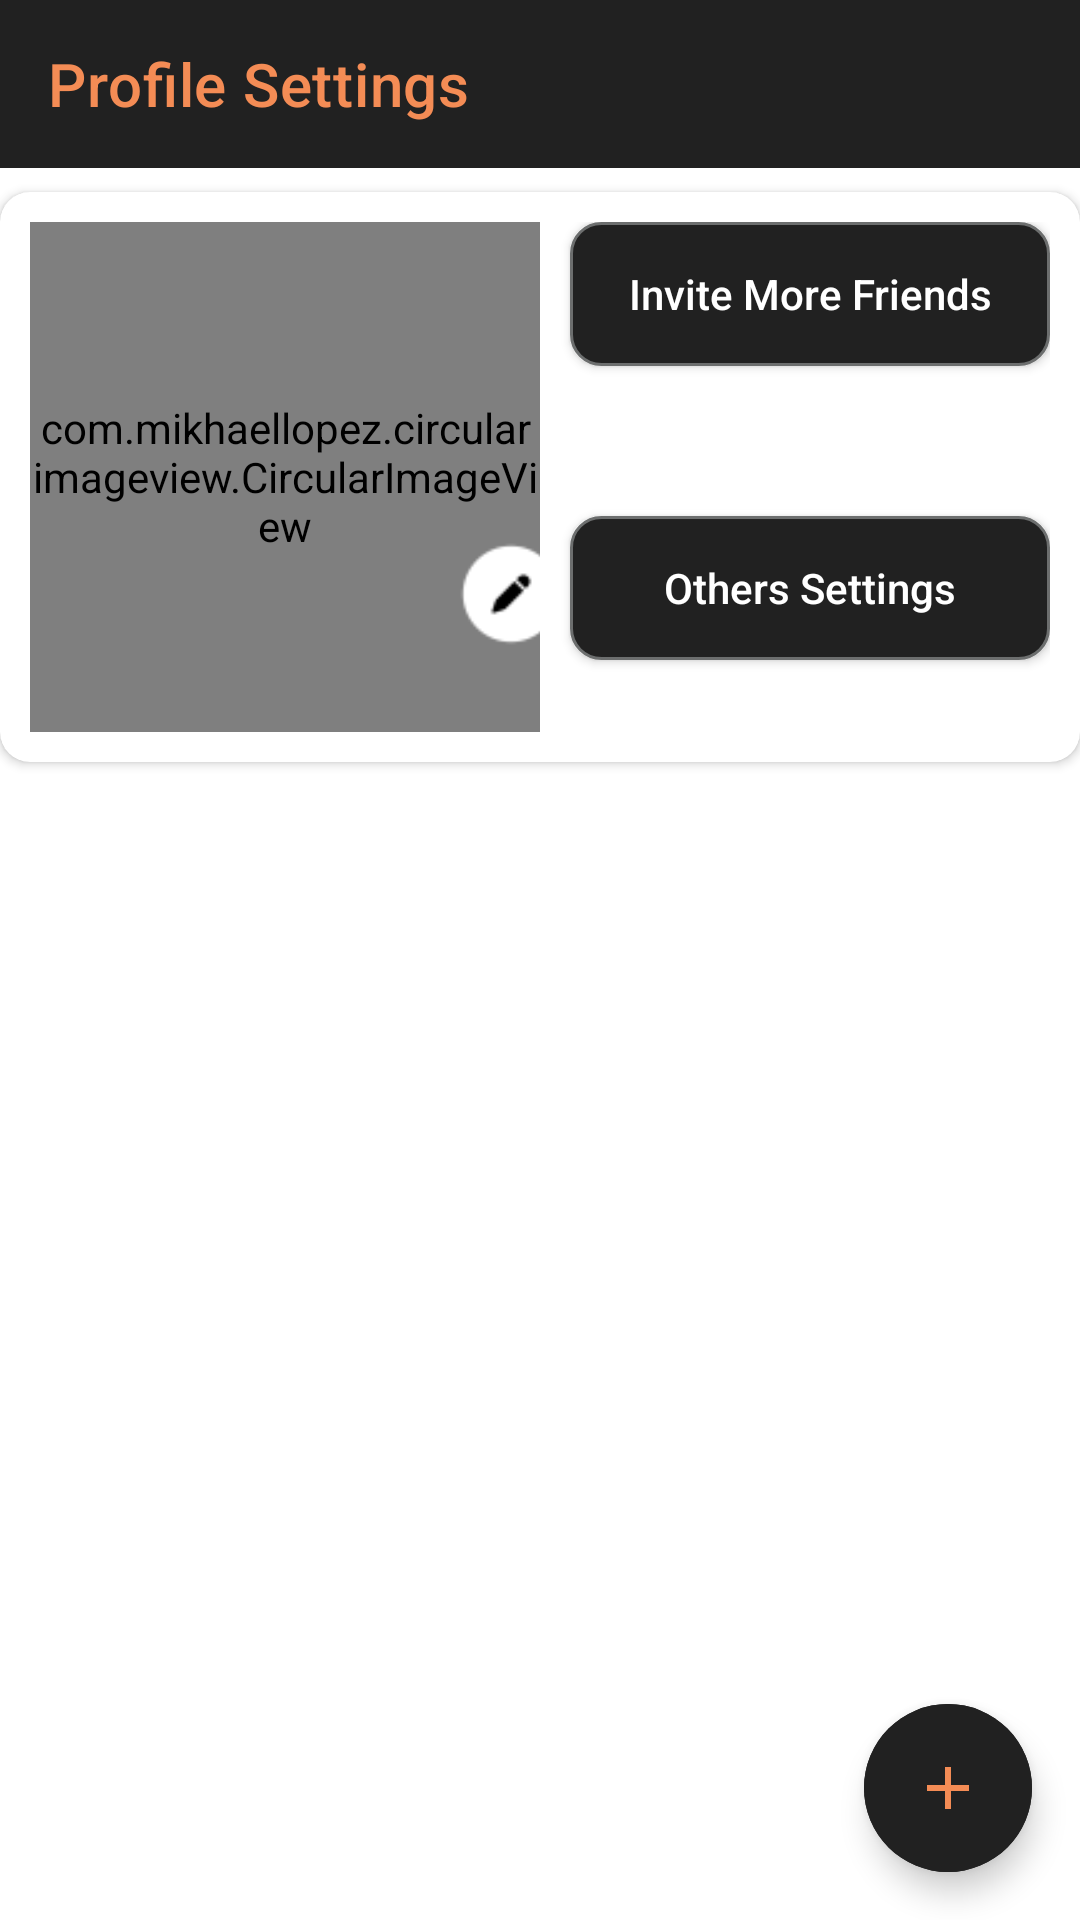

Icons on this 1080px x 1920px Android screen, each with the point to tap as (x,y):
add: (948,1788)
edit: (516,594)
